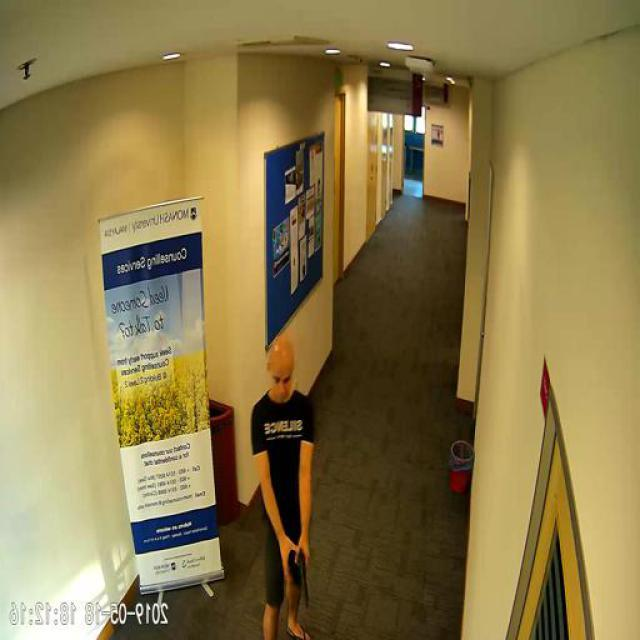Gun: (296, 542, 312, 606)
